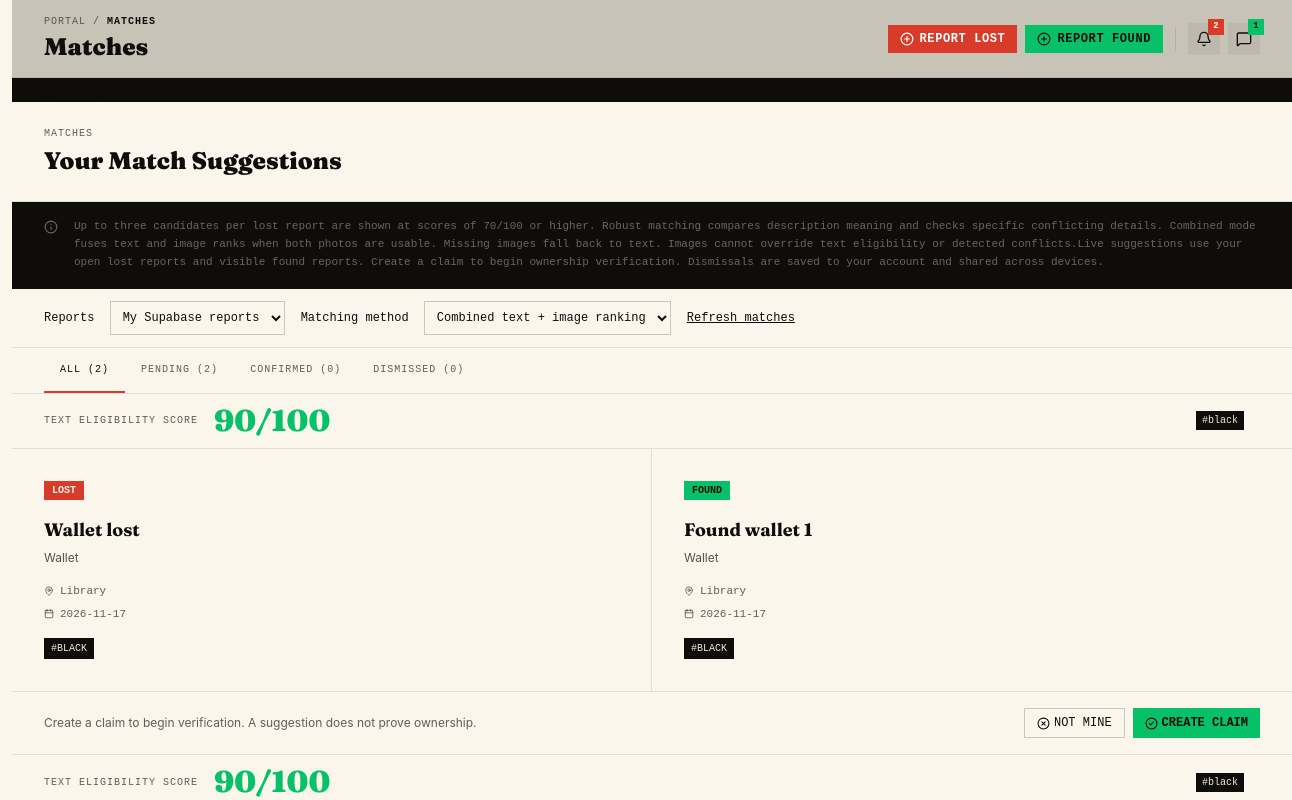
Scenario: database-backed dismissals › leaves counts and status unchanged when a dismissal cannot be saved
This screenshot has width=1292, height=800.
expect the button "pending (2)" is shown: met, box [125,348,234,393]
Click the button "Not mine": (1074, 723) [1024,708,1125,738]
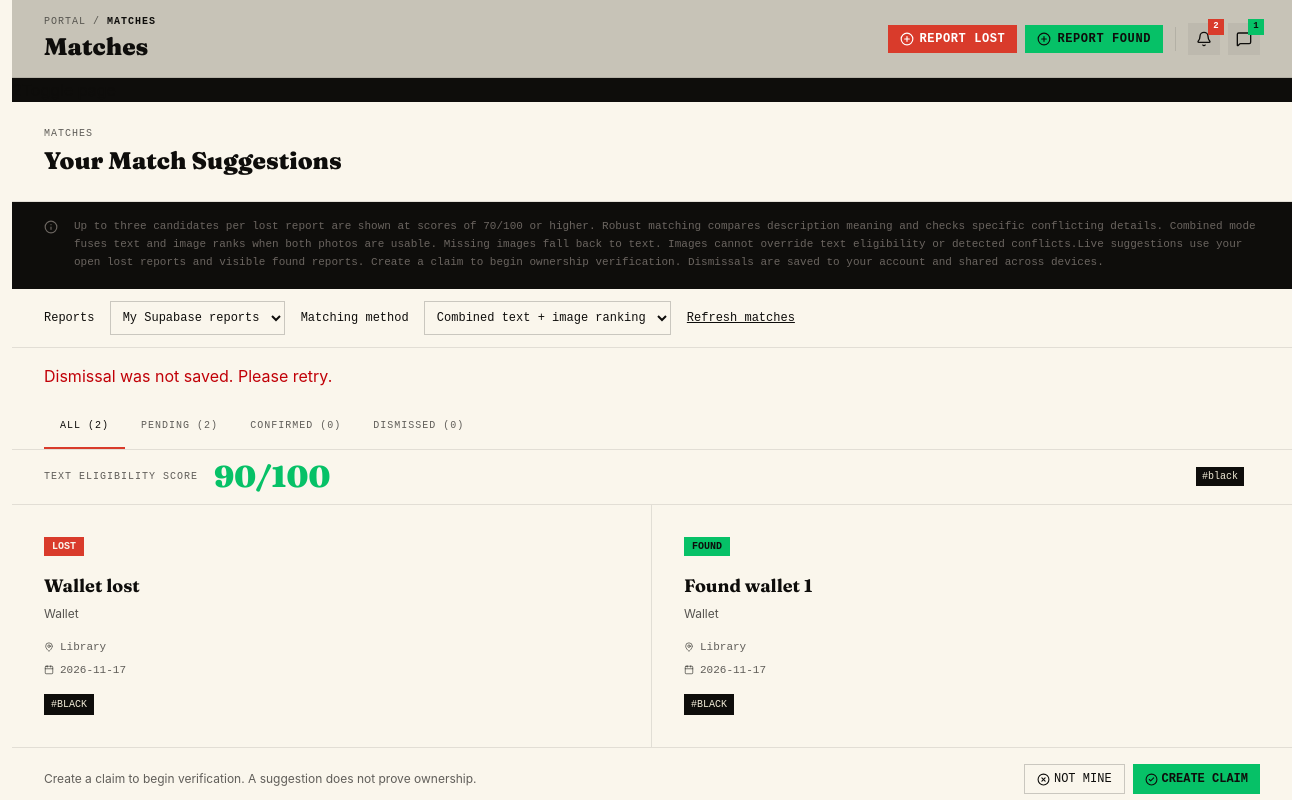
expect the text "Dismissal was not saved. Please retry." is shown: met, box [44,366,332,386]
